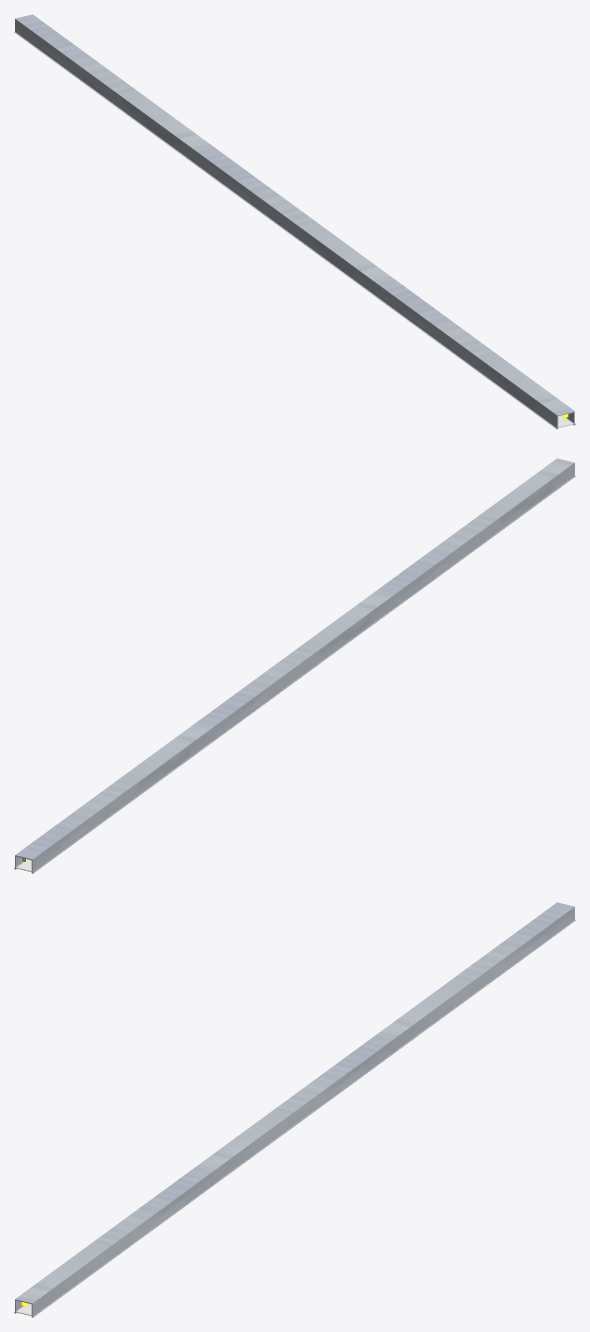
The model's file is single-led-strip.glb.
The picture shows the model from 3 angles, top to bottom: view 1: azimuth 30°, elevation 25°; view 2: azimuth 150°, elevation 25°; view 3: azimuth 330°, elevation 25°; orthographic projection.
Parts seen in each view (by area): view 1: instance_0.004, instance_1.004, instance_2.004; view 2: instance_2.004, instance_1.004, instance_0.004; view 3: instance_0.004, instance_1.004, instance_2.004.
Part boxes in pixels (x1,y1,x2,y2): instance_0.004: [375, 279, 575, 428]; instance_1.004: [195, 146, 393, 296]; instance_2.004: [14, 14, 212, 164]; instance_2.004: [14, 723, 214, 873]; instance_1.004: [196, 590, 394, 740]; instance_0.004: [377, 458, 575, 608]; instance_0.004: [14, 1167, 214, 1316]; instance_1.004: [196, 1034, 394, 1184]; instance_2.004: [377, 902, 575, 1052].
Bounding box in the file's own units: 0.019 × 0.0131 × 0.9.
3 materials, 1 textured.
